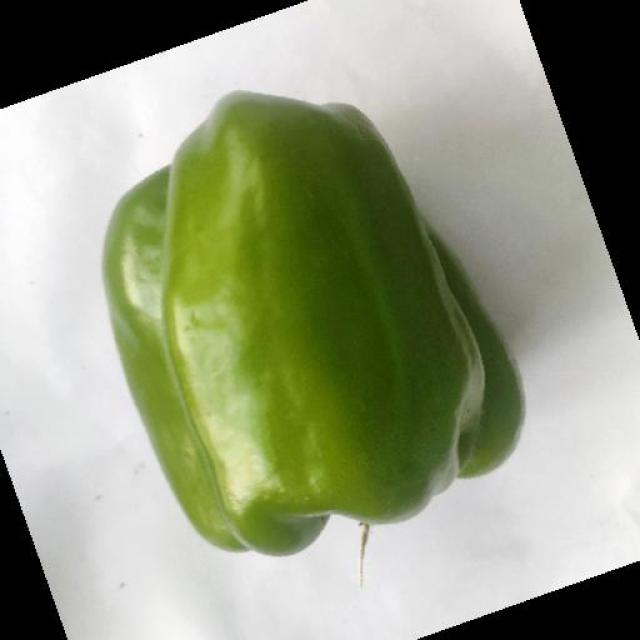Fresh_Capsicum: (104, 114, 521, 520)
